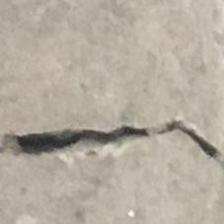Crack: (0, 108, 224, 168)
